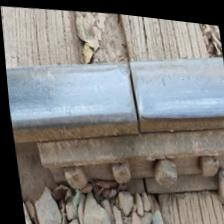person: (75, 43, 190, 149), (133, 171, 151, 190)
